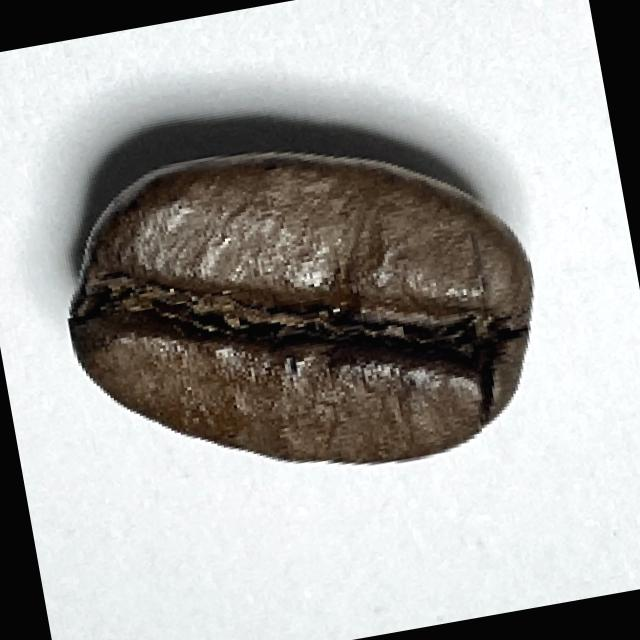bean: (42, 101, 561, 514)
